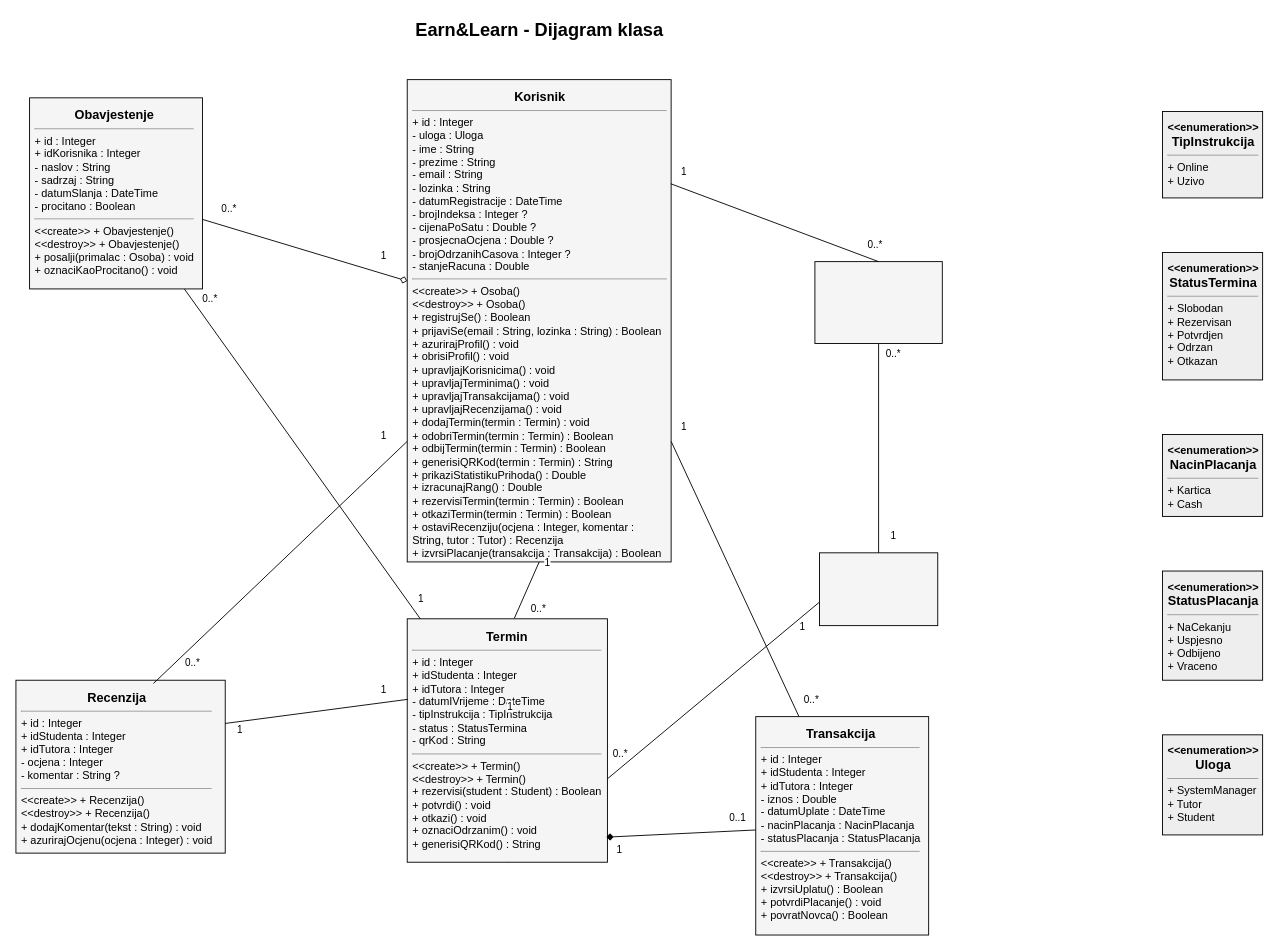
This 1279x951 diagram has some shape labels left out. Each missing label, with the box of its shape:
Korisnik / Predmet +id : Integer + idKorisnika : Integer + idPredmeta : Integer: (814, 261, 942, 344)
Predmet + id : Integer - naziv : String: (819, 552, 938, 626)
